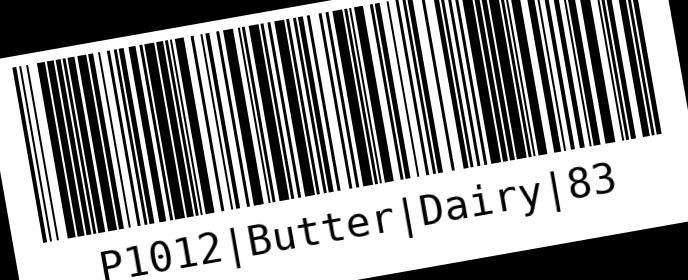milk: (6, 0, 687, 279)
